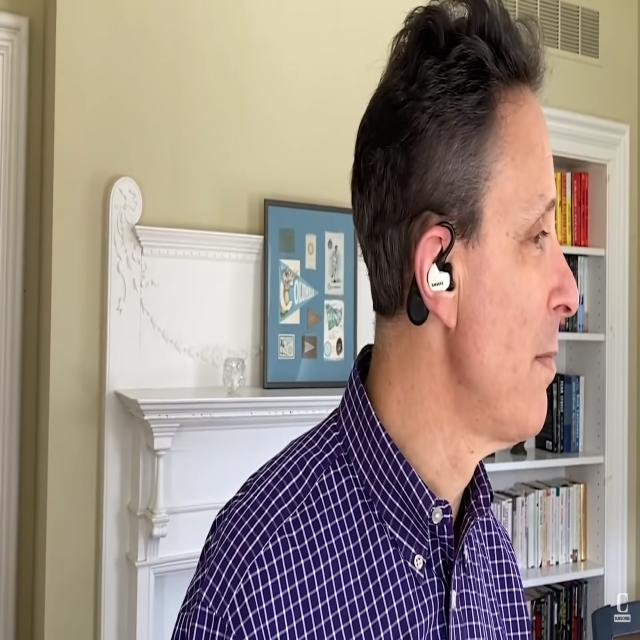airpods: (405, 217, 456, 328)
